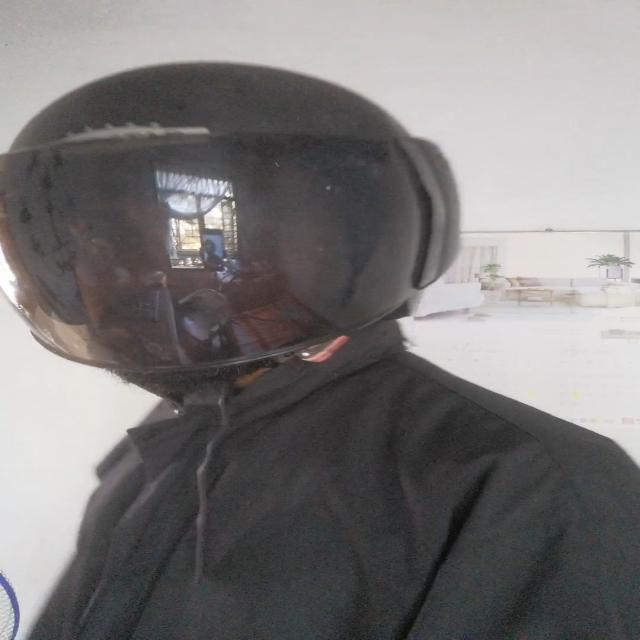Helmet_Wearer: (0, 61, 461, 391)
Jacket_Wearer: (32, 329, 640, 640)
Person: (7, 60, 640, 640)
